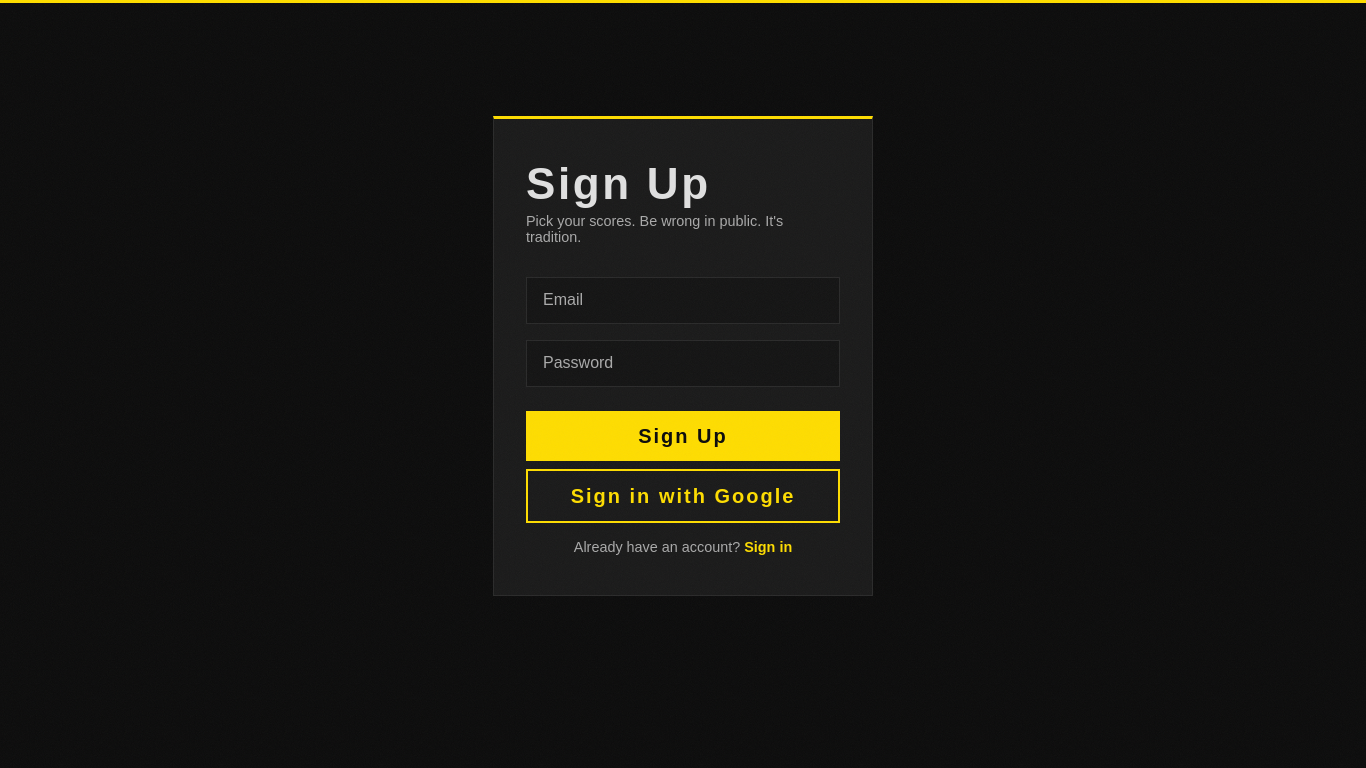
Test: SignupView › maps Firebase signUp error auth/email-already-in-use to a user-facing message
Type "test@crew.mock" into the field with placeholder "Email".
click(683, 300); type("test@crew.mock")  # box x1=526 y1=277 x2=840 y2=324
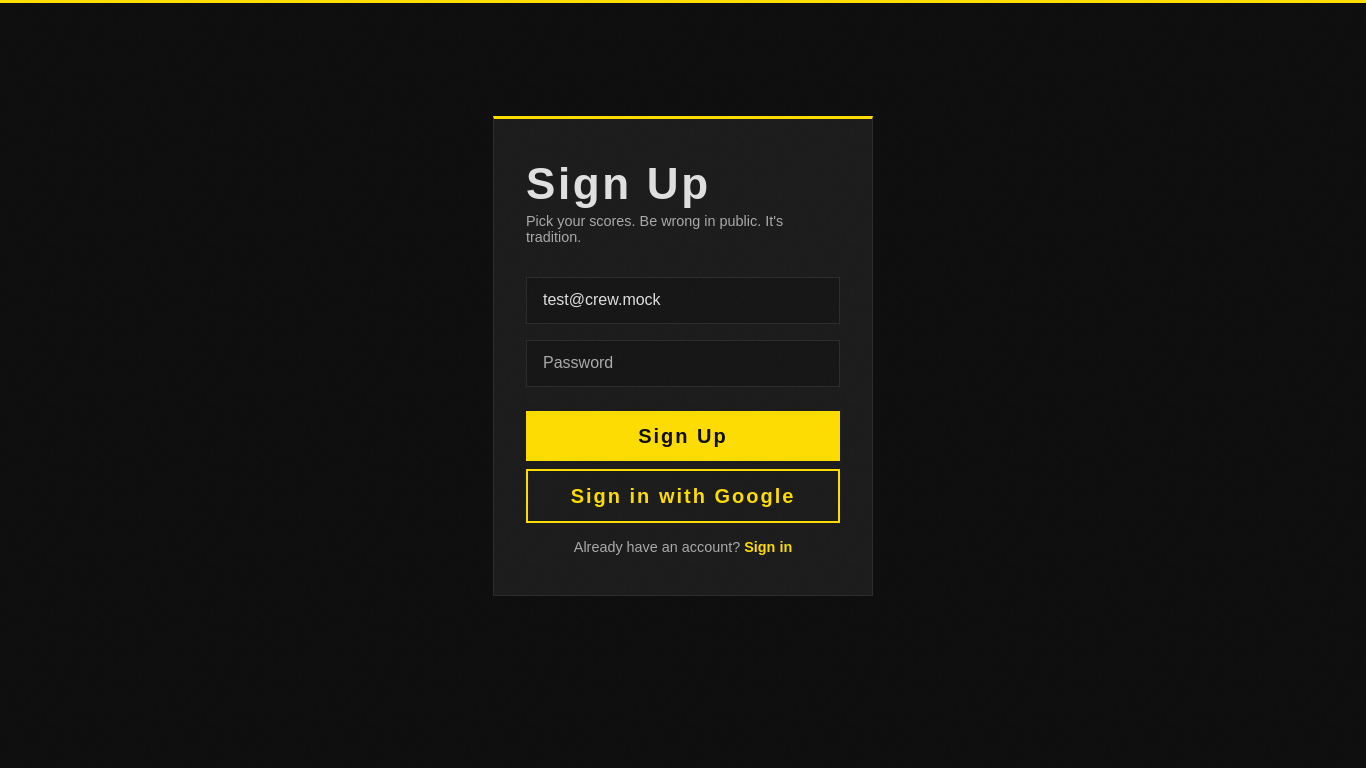
Type "pass123" into the password field with placeholder "Password".
click(683, 363); type("pass123")  # box x1=526 y1=340 x2=840 y2=387
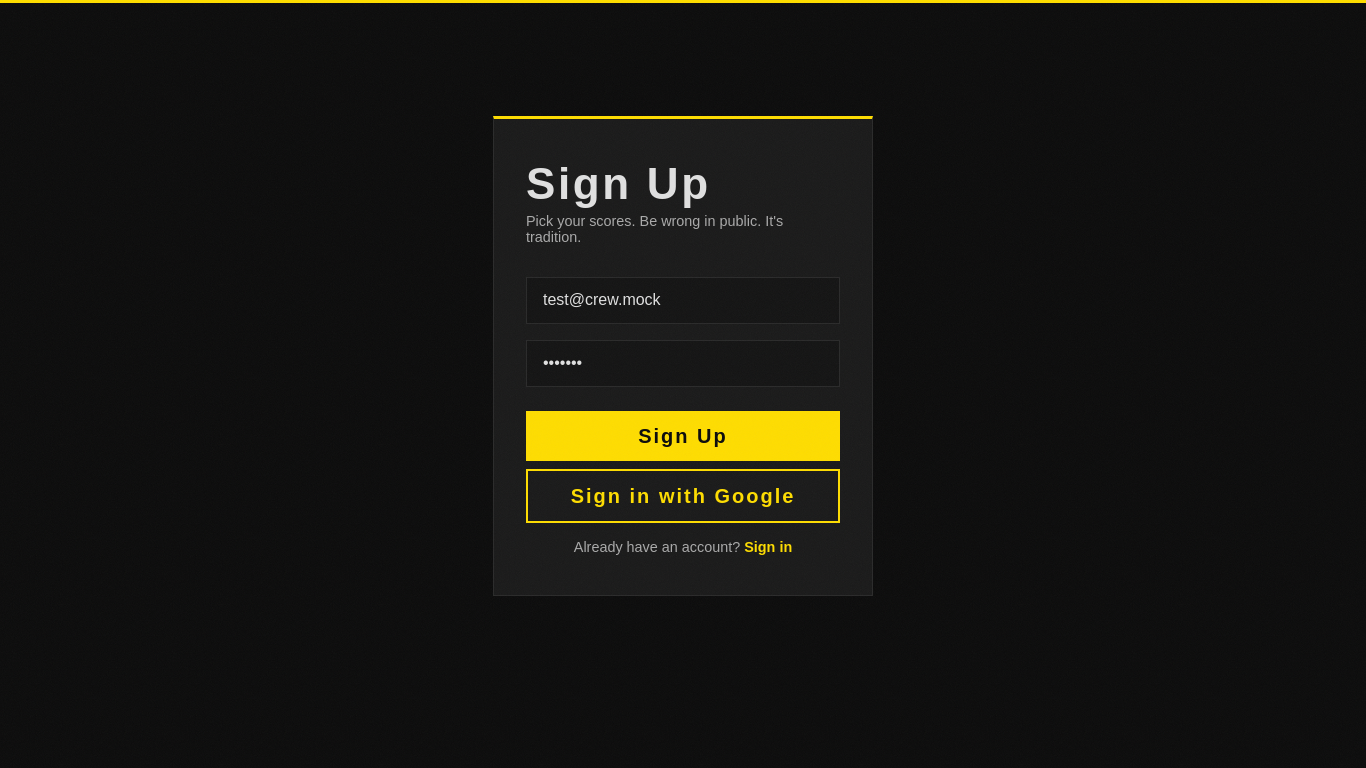
Submit the form, box x1=526 y1=277 x2=840 y2=461
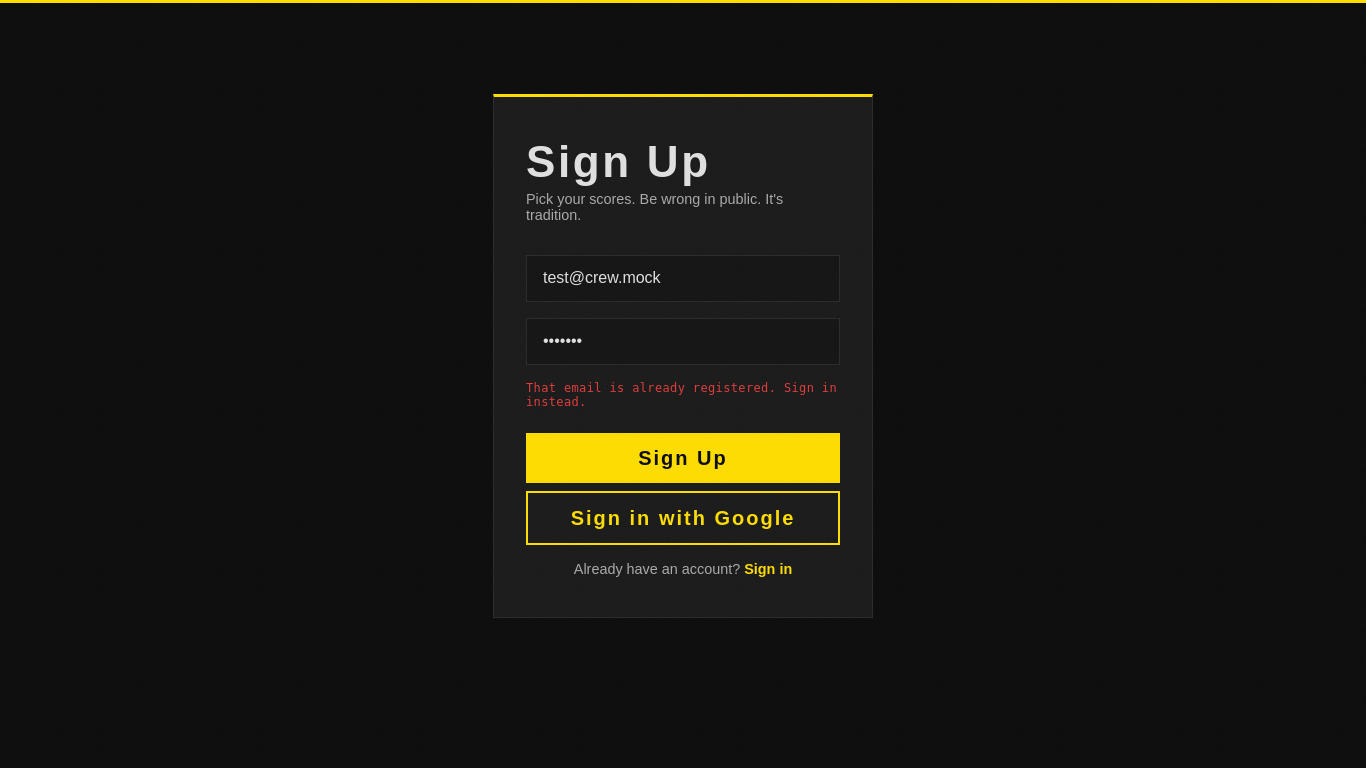
Expected: the text with class "form-error" reads "That email is already registered. Sign in instead.", x1=526 y1=381 x2=837 y2=409
